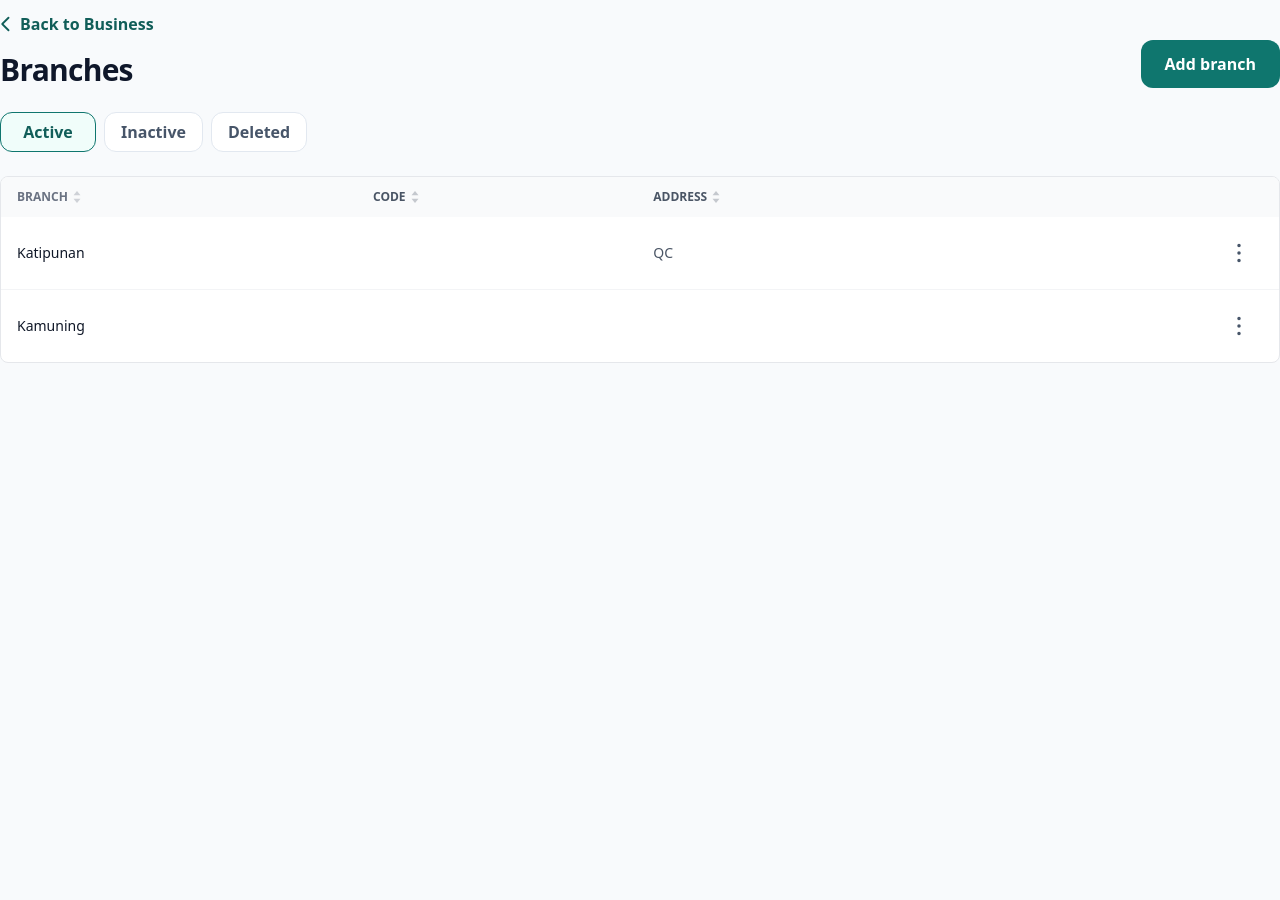
managing one branch › needs a department name
Click the button named "Actions for Katipunan".
click(1239, 253)  # box left=1215, top=229, right=1263, bottom=277
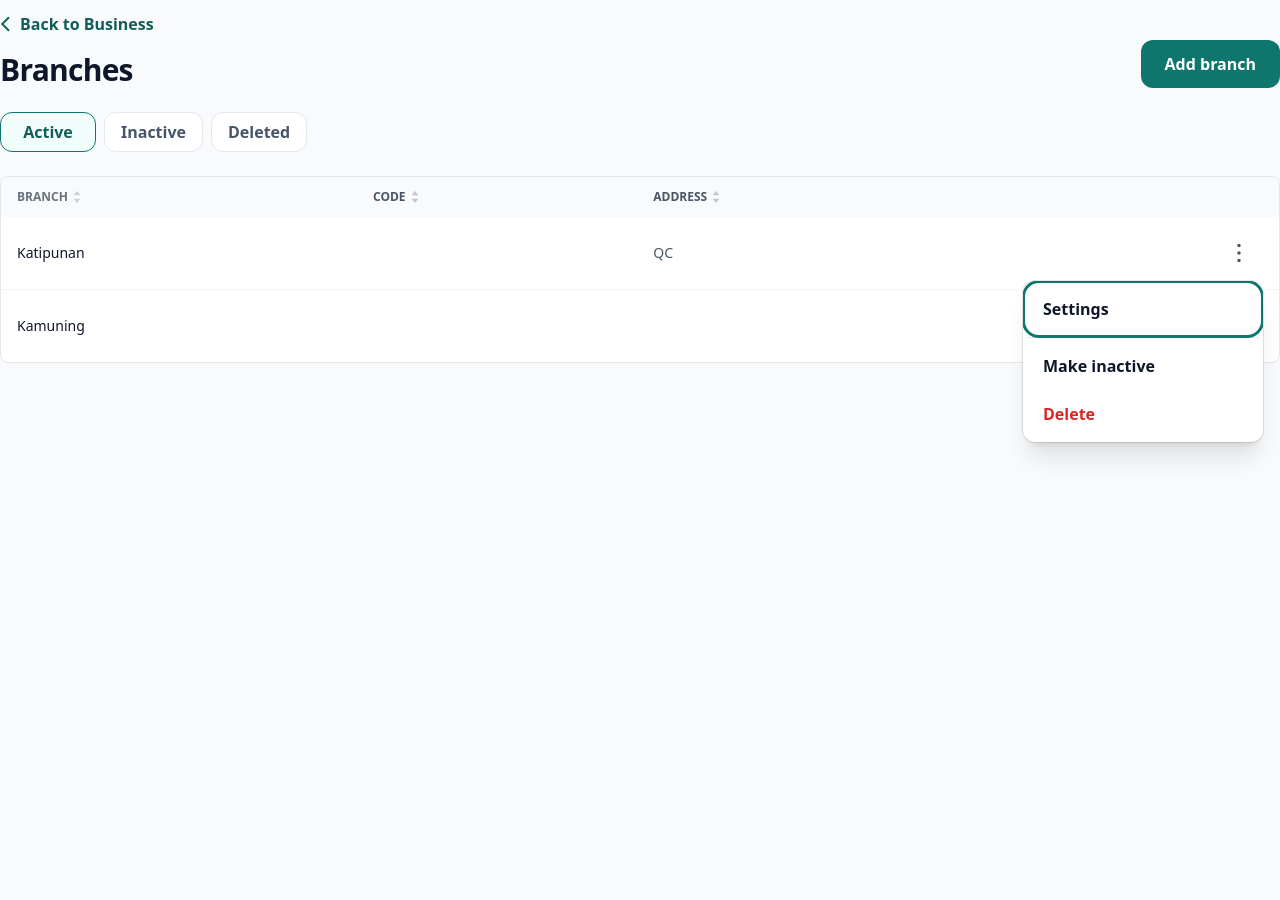
Click the menu item "Settings".
click(1143, 309)  # box left=1027, top=285, right=1259, bottom=333
(page scrolled)
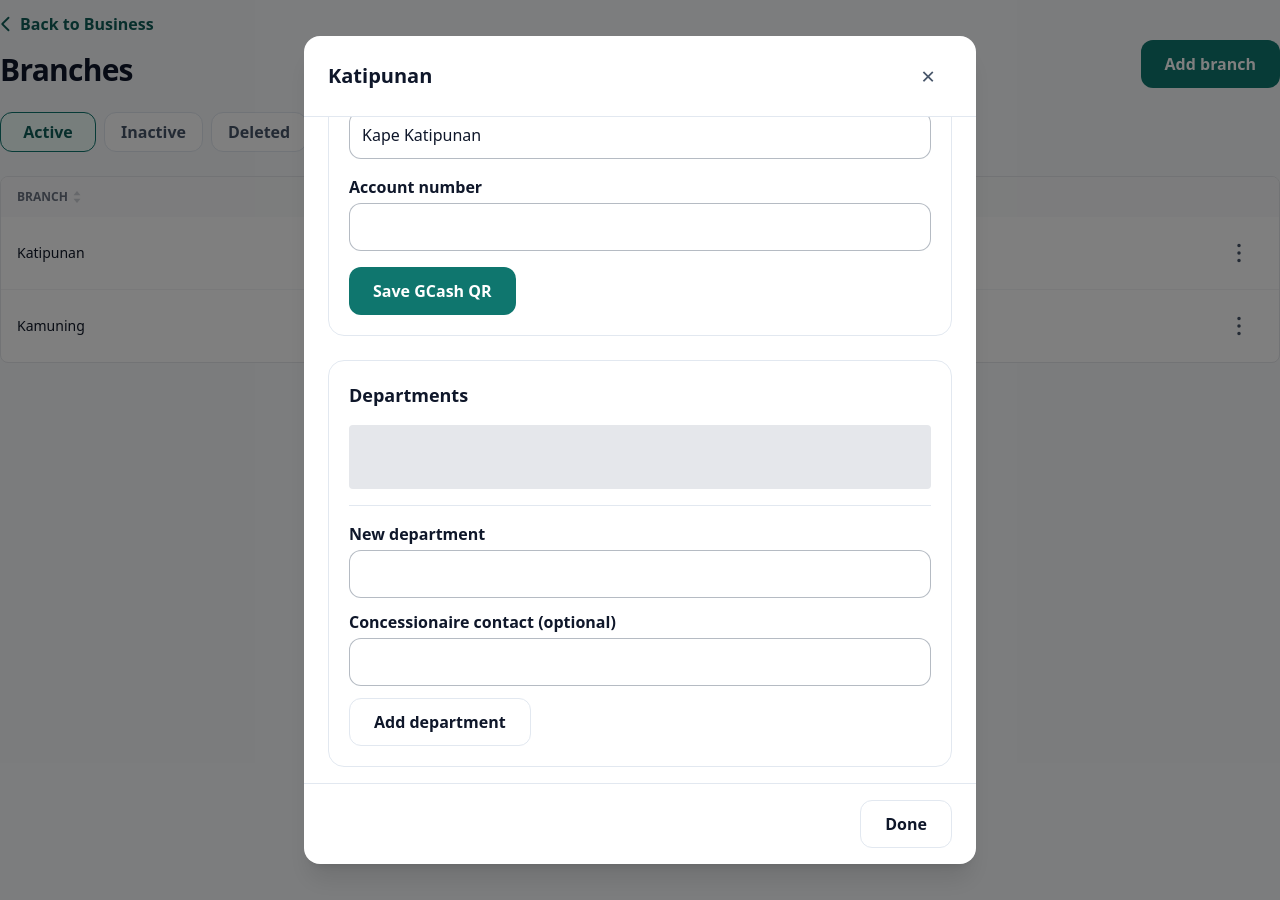
Click the button "Add department".
click(440, 722)  # box left=349, top=698, right=531, bottom=746
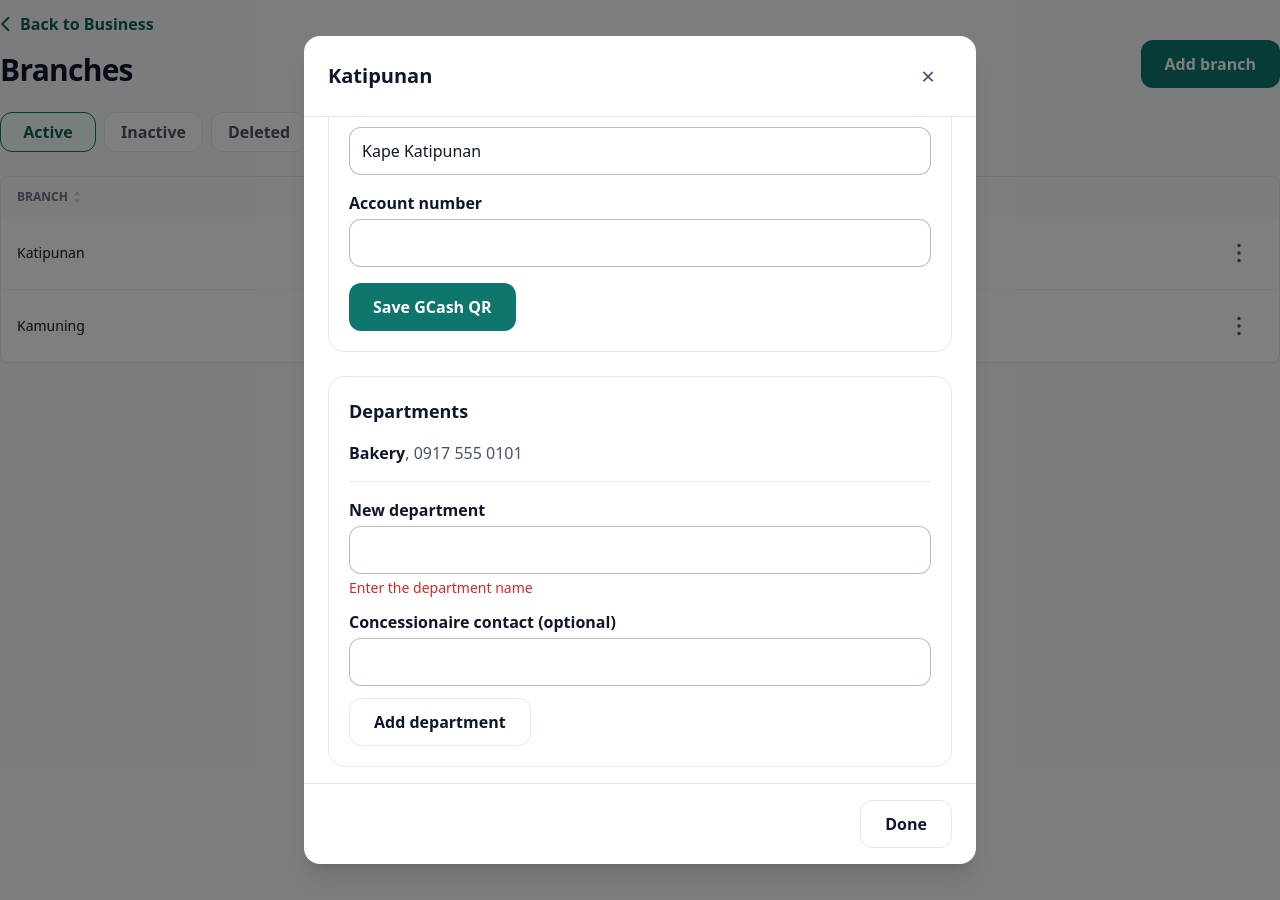
Check: the text "Enter the department name" is shown, box left=349, top=578, right=533, bottom=597
